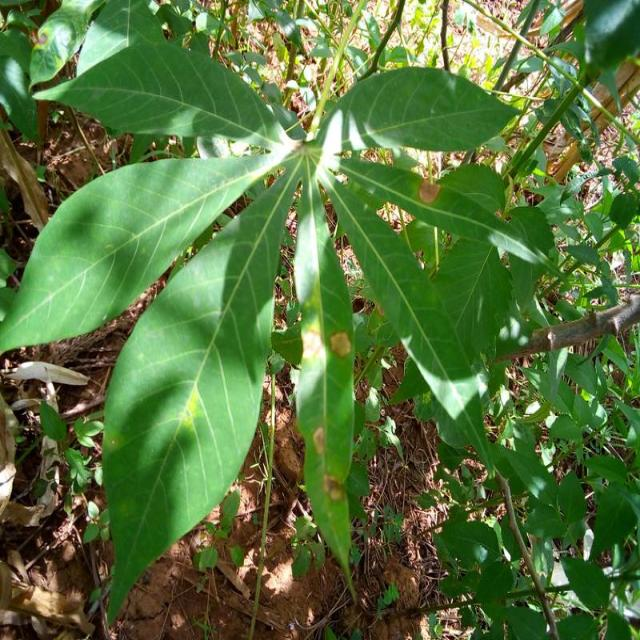cassava leaf: (1, 2, 558, 628), (99, 146, 302, 627), (0, 147, 286, 354), (292, 159, 358, 600)
